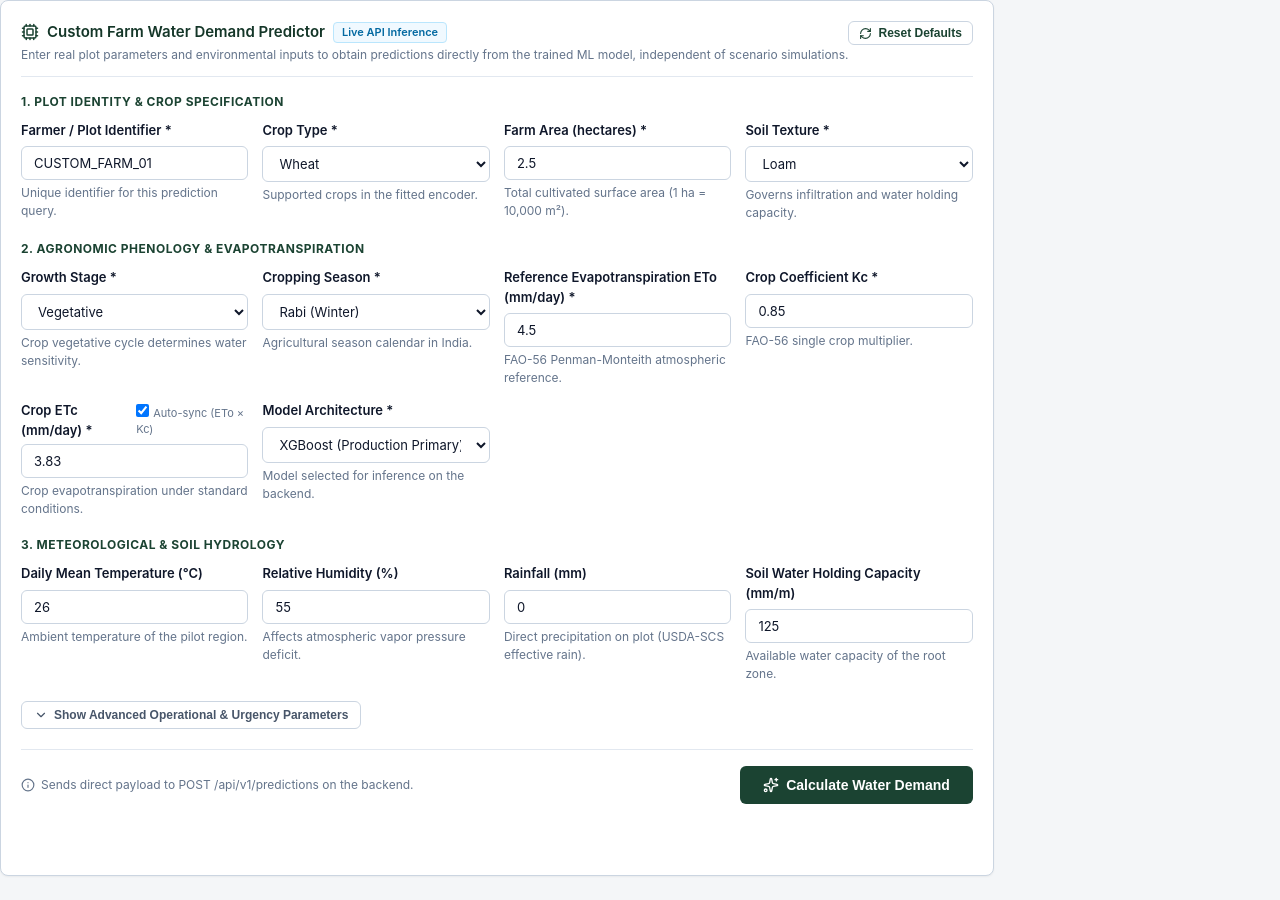
Test case: CustomFarmPredictor Component & Phase 14 UI Flow › 4. automatically synchronizes ETc = ETo * Kc when ETo changes
Replace the text in the number field labelled "Reference Evapotranspiration ETo (mm/day) *" with "6.0" at (618, 330), box [504, 313, 731, 347]
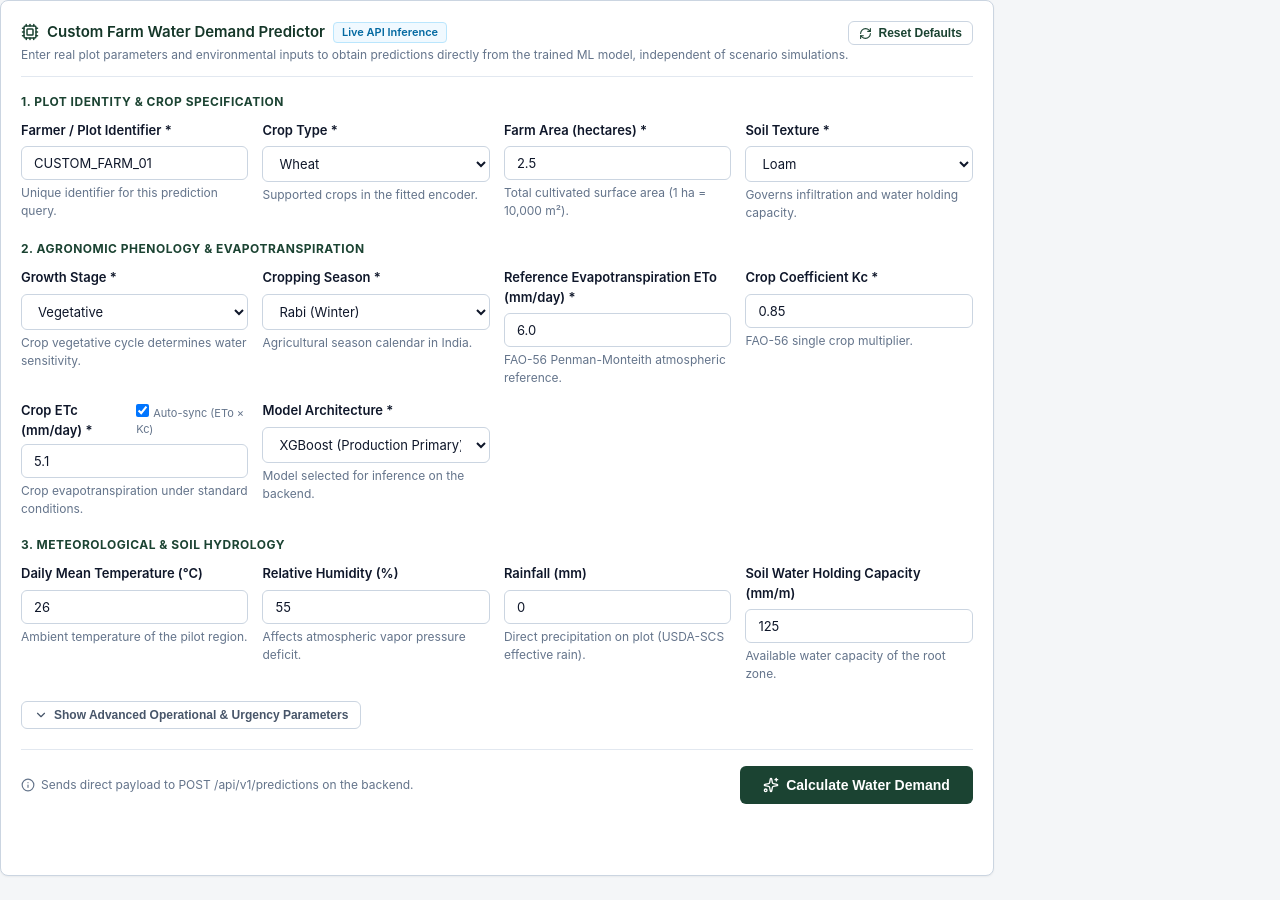
Replace the text in the number field labelled "Crop Coefficient Kc *" with "1.2" at (859, 310), box [745, 294, 973, 328]
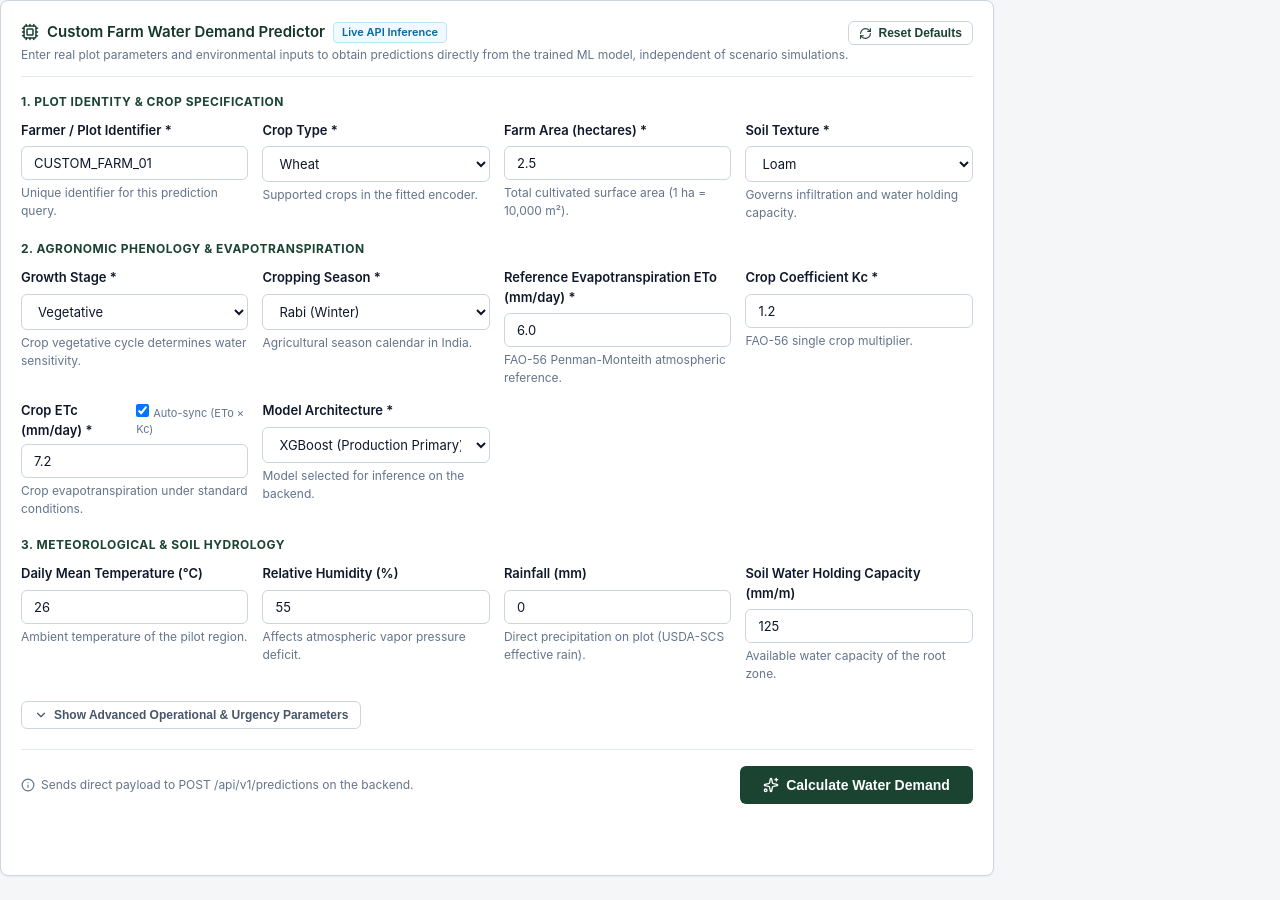
Check: the number field labelled "Crop ETc (mm/day) *" holds "7.2", box [21, 444, 248, 478]
